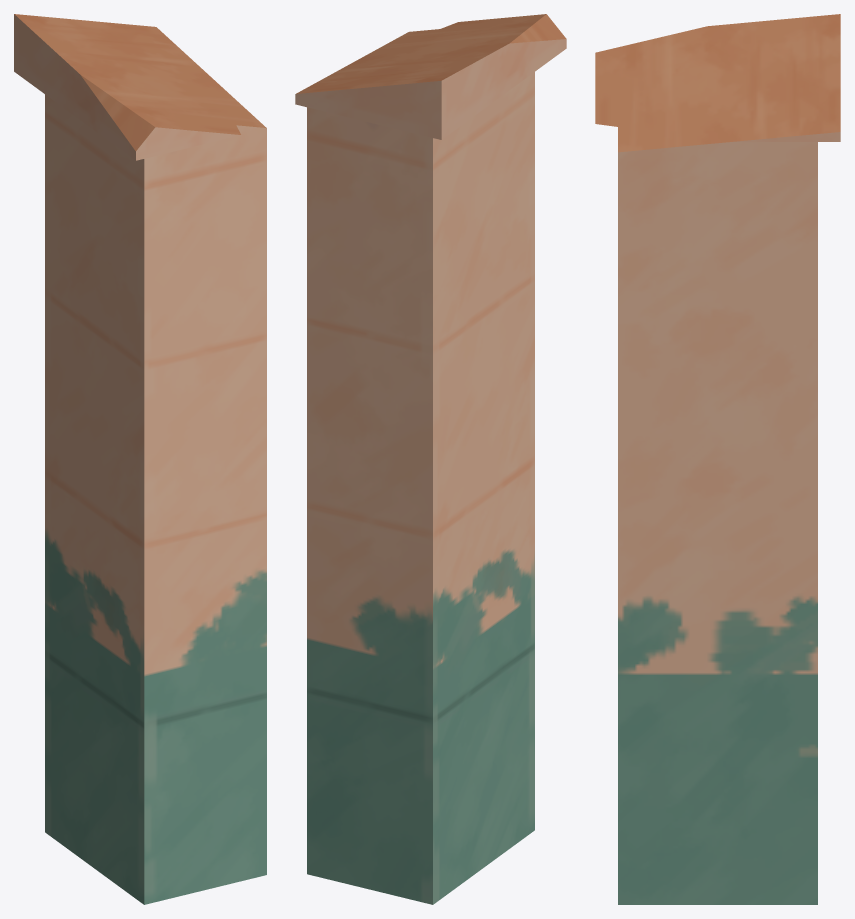
The model's file is wall2_arcade_s09.fbx.
The picture shows the model from 3 angles, left to right: view 1: azimuth 30°, elevation 25°; view 2: azimuth 150°, elevation 25°; view 3: azimuth 270°, elevation 25°; orthographic projection. The views are drawn at different scales.
Visible parts, largest first — view 1: wall2_arcade_s09; view 2: wall2_arcade_s09; view 3: wall2_arcade_s09.
Part boxes in pixels (x1,y1,x2,y2): wall2_arcade_s09: (14,14,266,904); wall2_arcade_s09: (295,14,566,904); wall2_arcade_s09: (595,14,840,904).
Size of the model in its own units: 1.16 by 6.35 by 1.72.
